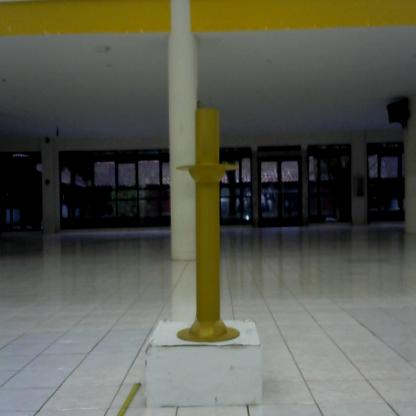pole: (175, 106, 244, 346)
